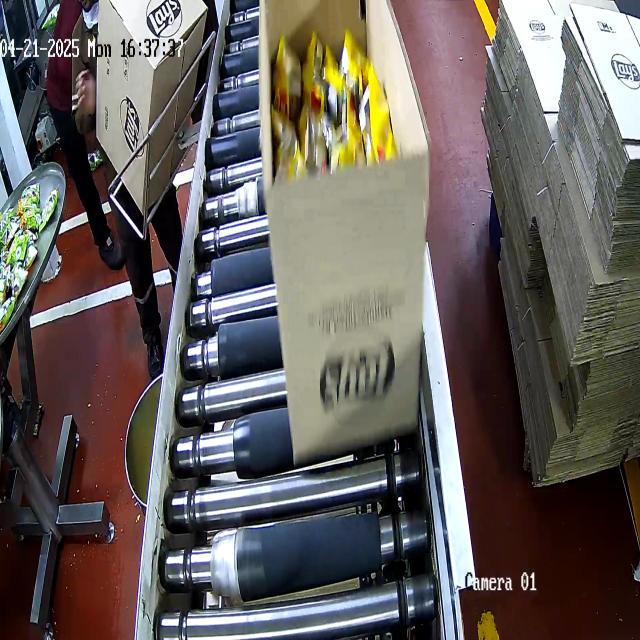SALTED: (275, 10, 391, 176)
